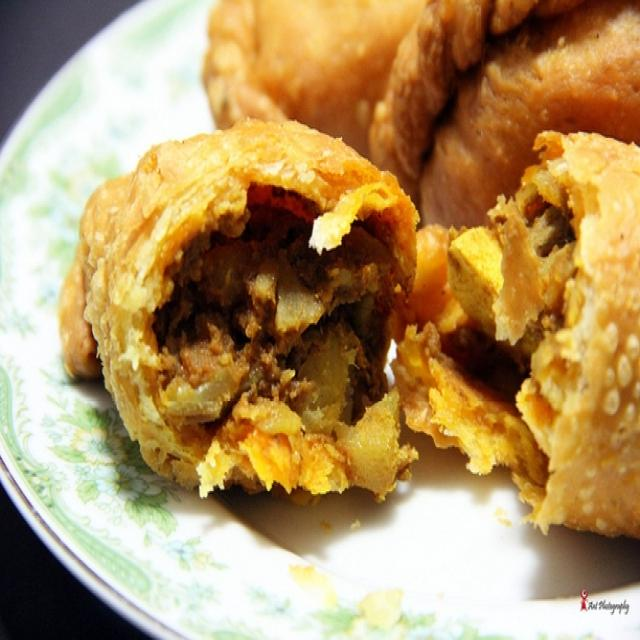炸货点心: (86, 21, 603, 542)
